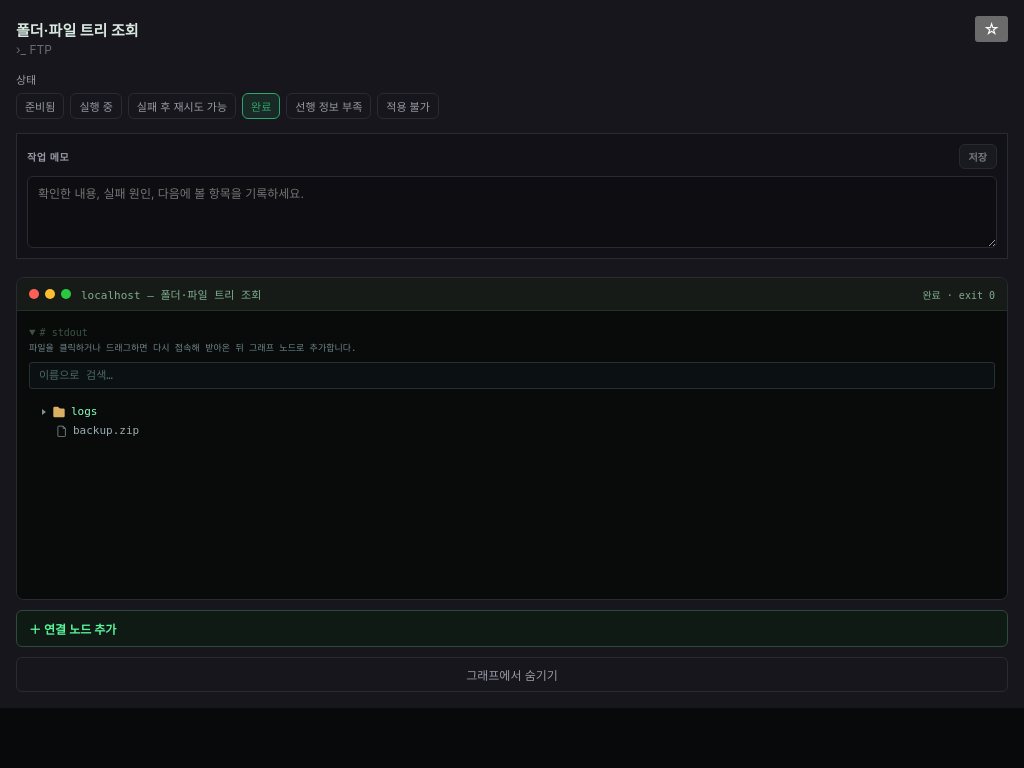
Test case: renders an ftp-directory-tree run as a real file tree, and promotes a clicked file
Check: the heading "logs" is shown, box [42,405,98,419]
Click the button "backup.zip".
click(106, 431)  # box [41,421,983,441]
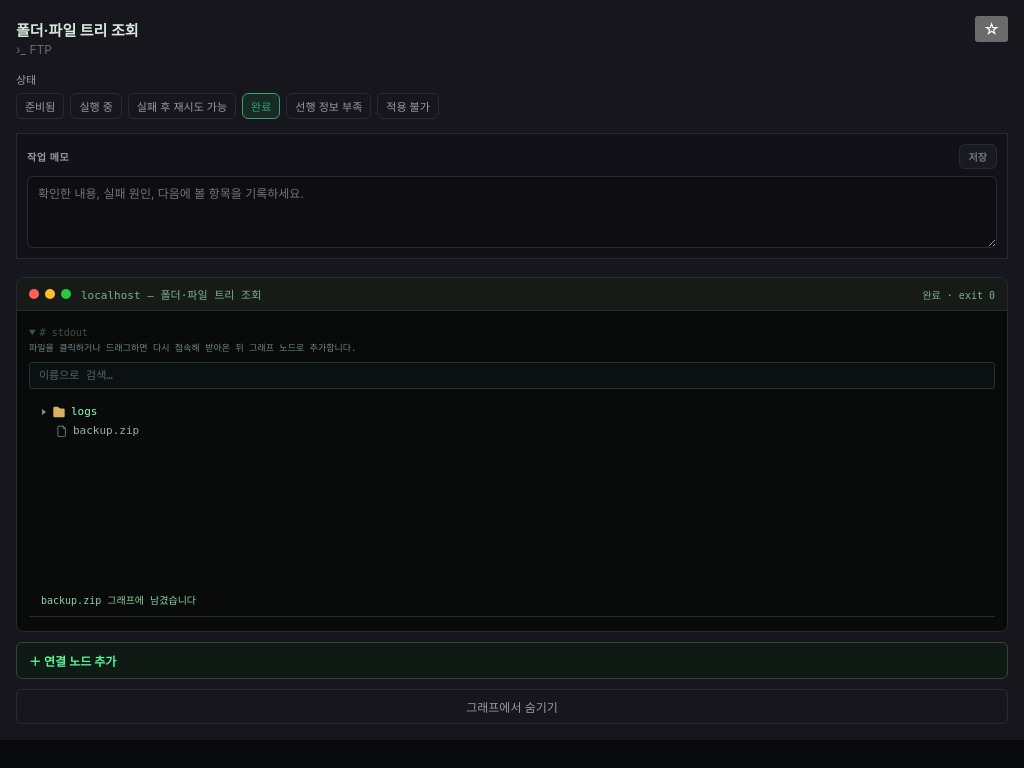
Check: the text "backup.zip 그래프에 남겼습니다" is shown, box [29,585,995,617]
